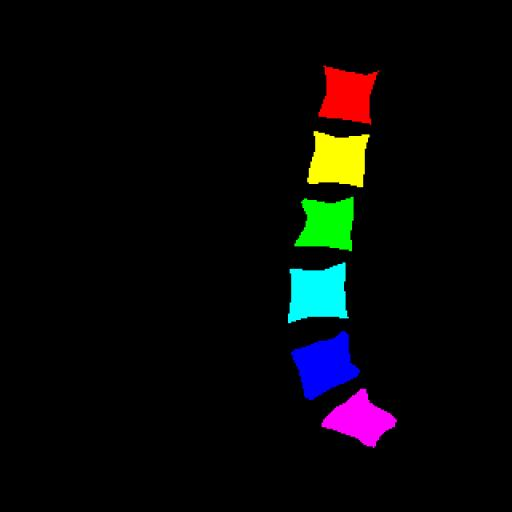L1: (318, 66, 378, 124)
L2: (307, 131, 369, 187)
L3: (294, 198, 354, 250)
L4: (288, 262, 348, 322)
L5: (292, 331, 360, 400)
S1: (322, 389, 397, 447)
